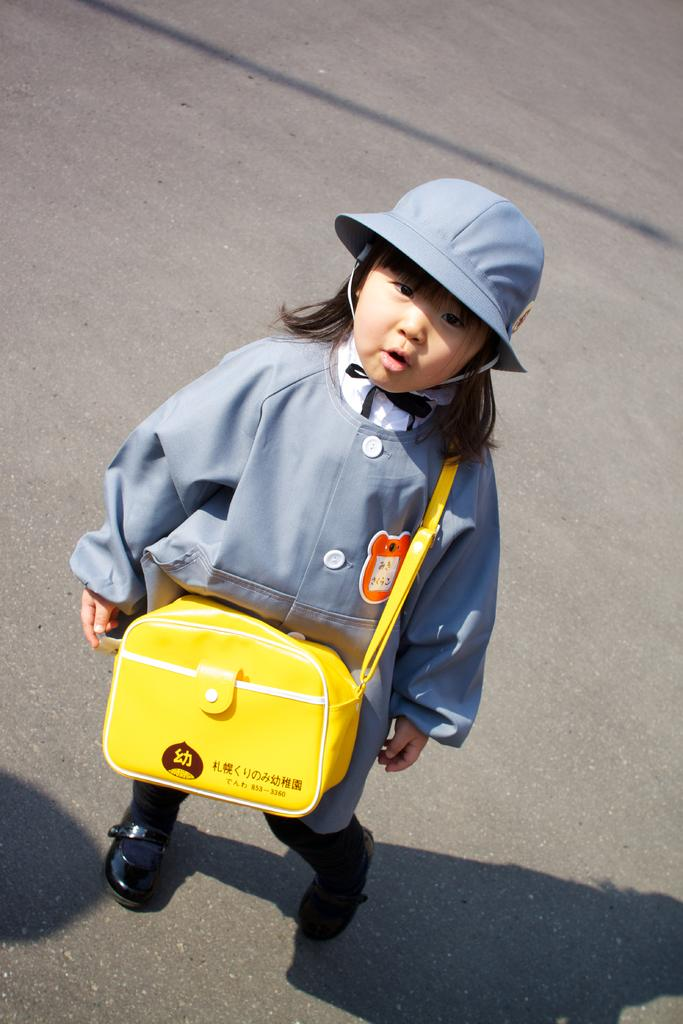Luggage-and-bags: (103, 447, 466, 818)
